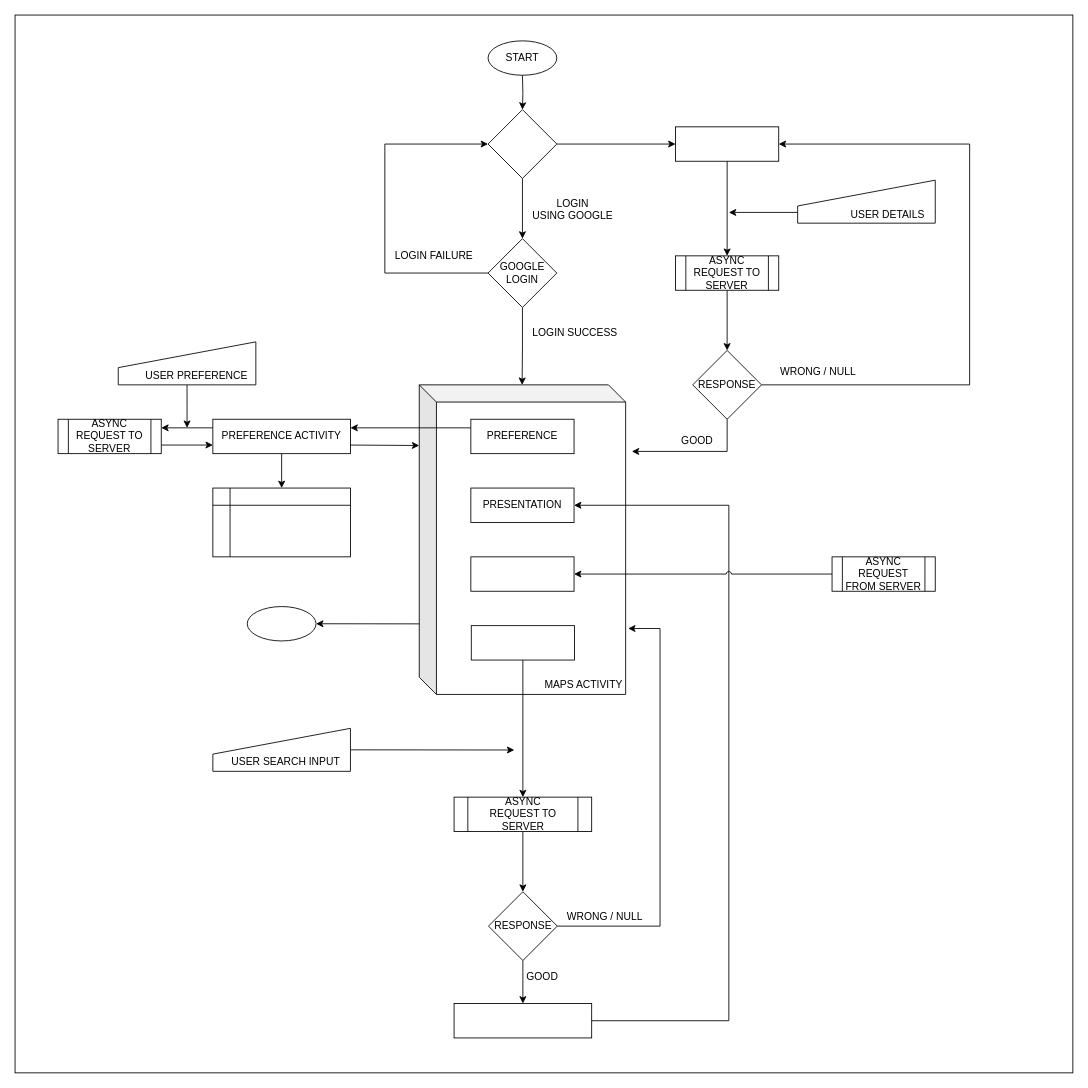
The diagram is 1088 pixels wide and 1088 high, and some of its shapes have lost their labels. Each missing label, with the box of its shape:
INTERNAL PREFERENCE STORAGE: (212, 487, 350, 557)
MAIN ACTIVITY: (487, 109, 557, 178)
REGISTRATION PAGE: (675, 126, 779, 161)
REROUTER: (470, 556, 574, 591)
ROUTES ACTIVITY: (453, 1003, 592, 1038)
SEARCH: (470, 625, 574, 660)
STOP: (246, 606, 316, 641)
